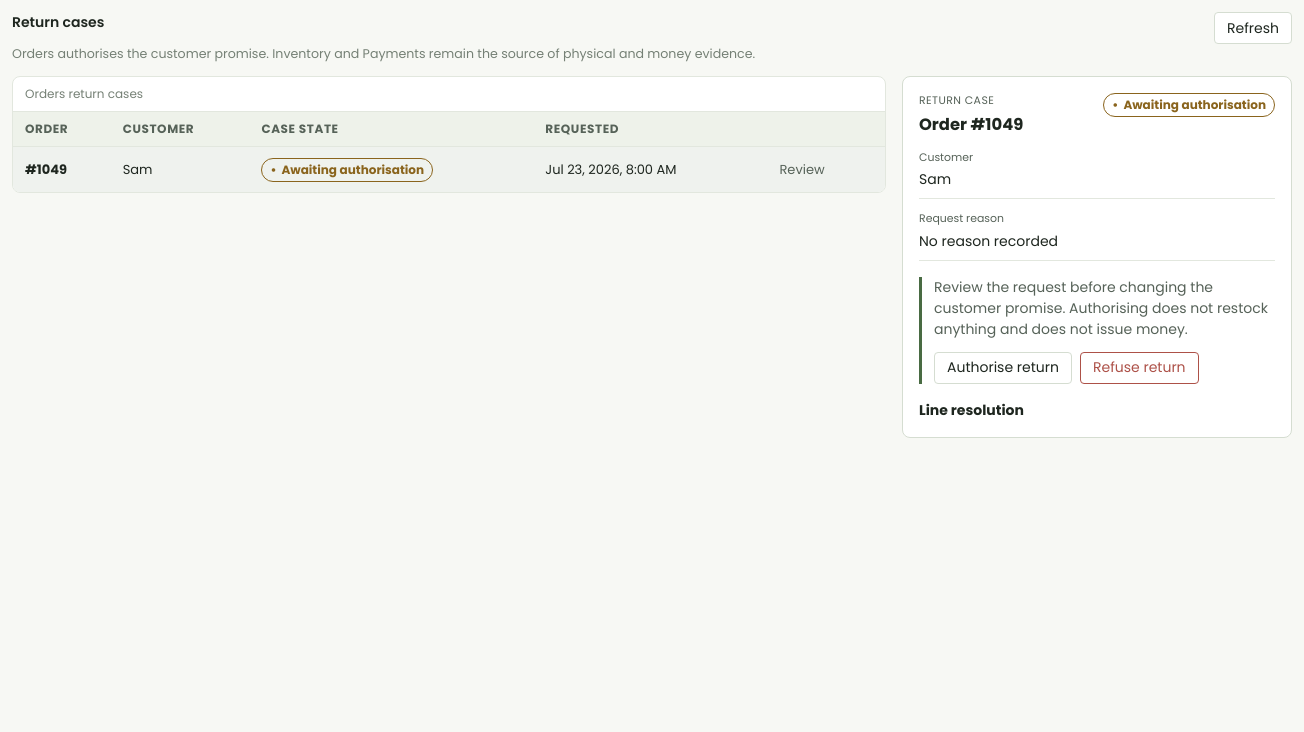
ReturnCasesPanel › requires a reason before refusing a requested return
Check: the heading "Order #1049" is shown, box [919,113,1023,138]
Click the button "Refuse return". click: (1139, 368)
box: [1080,352,1199,384]
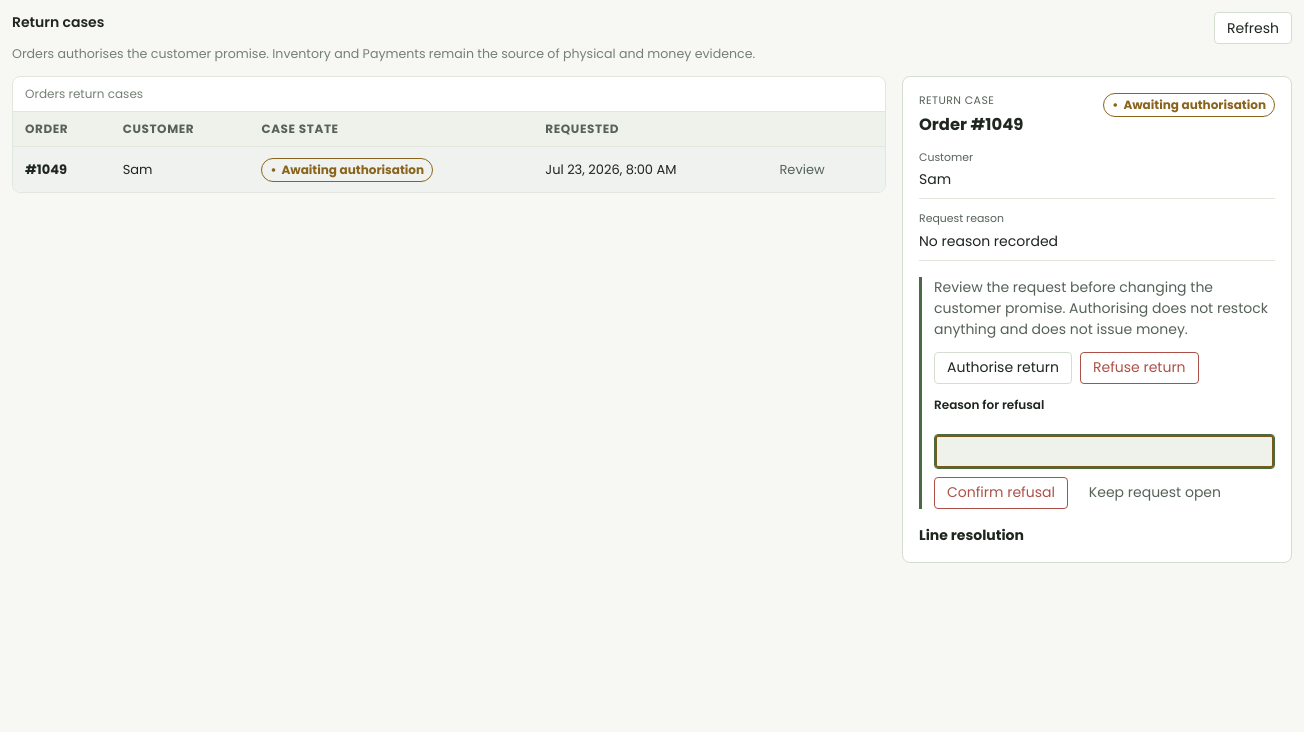
Click the button "Confirm refusal". click: (1001, 492)
box: [934,476,1068,508]
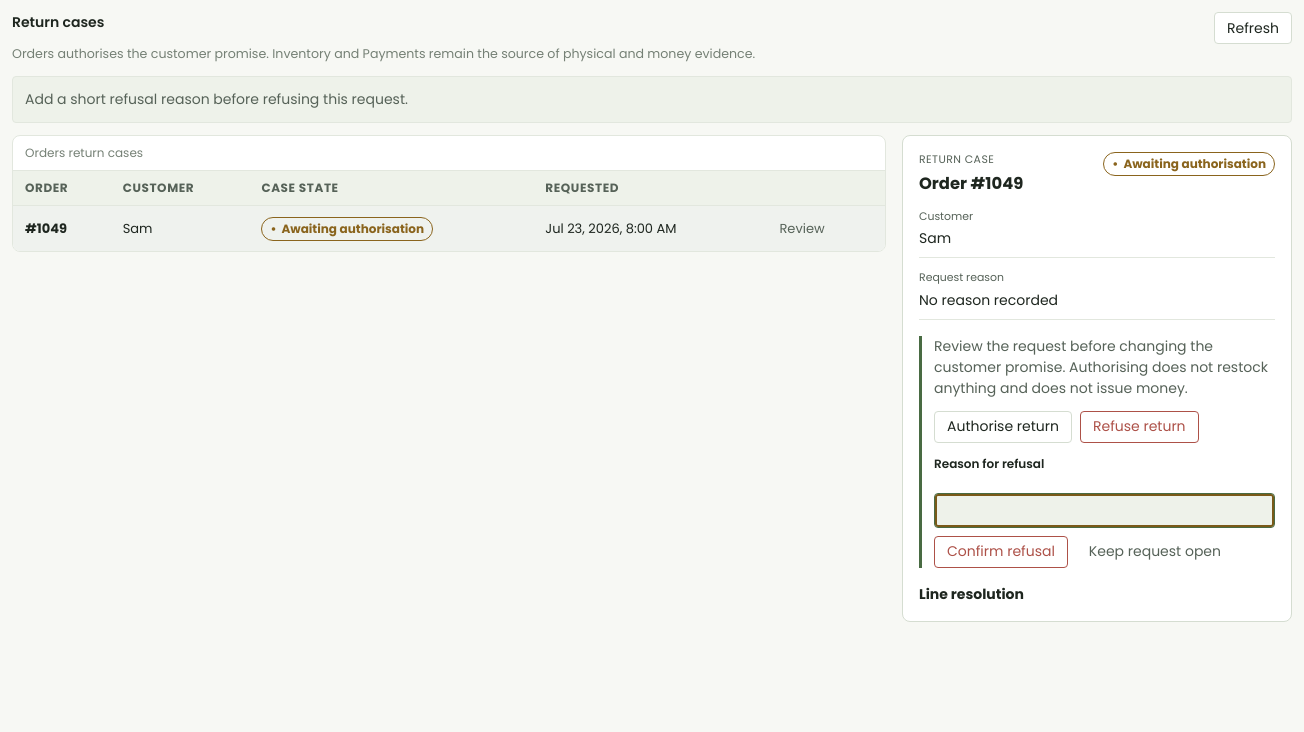
Check: the text "Add a short refusal reason before refusing this request." is shown, box [12,76,1292,123]
